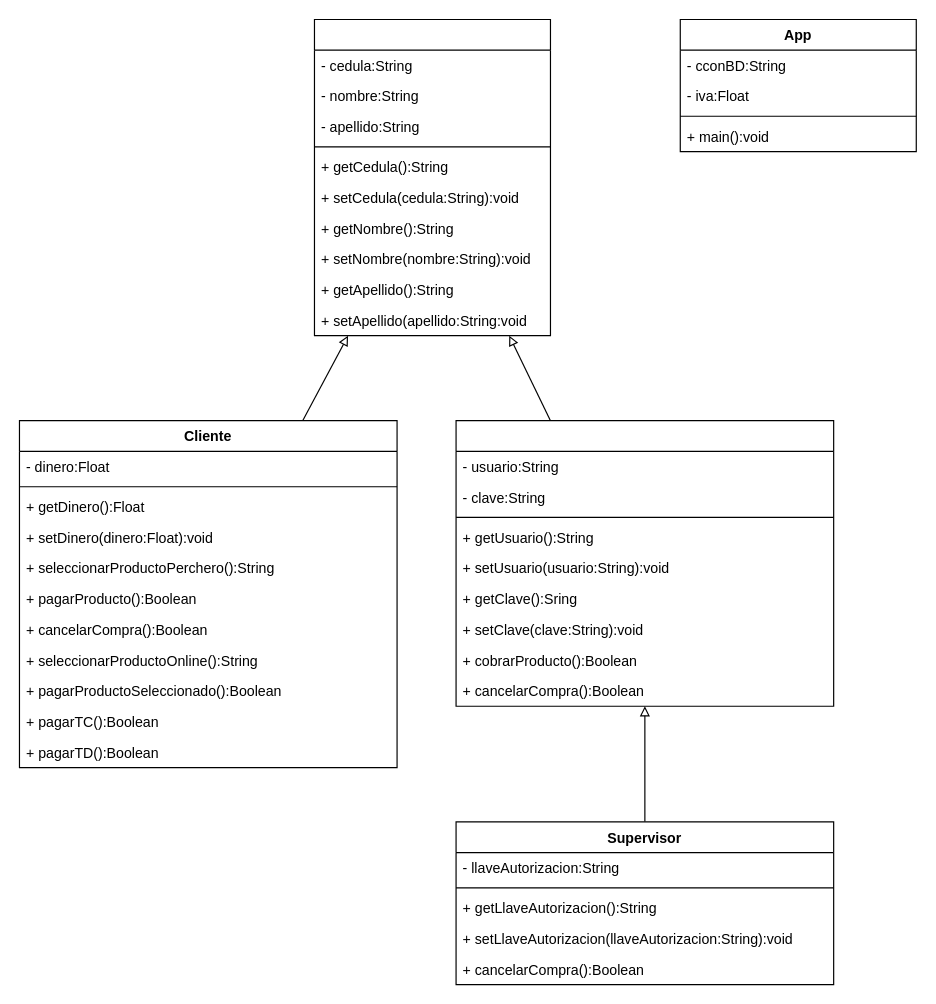
This 936x1004 diagram has some shape labels left out. The shapes that lost their labels are listed below. From the top down, each one's box as (x1, y1, x2, y2) in pixels, then its label:
(313, 18, 550, 336): Persona
(455, 419, 834, 706): Cajero
